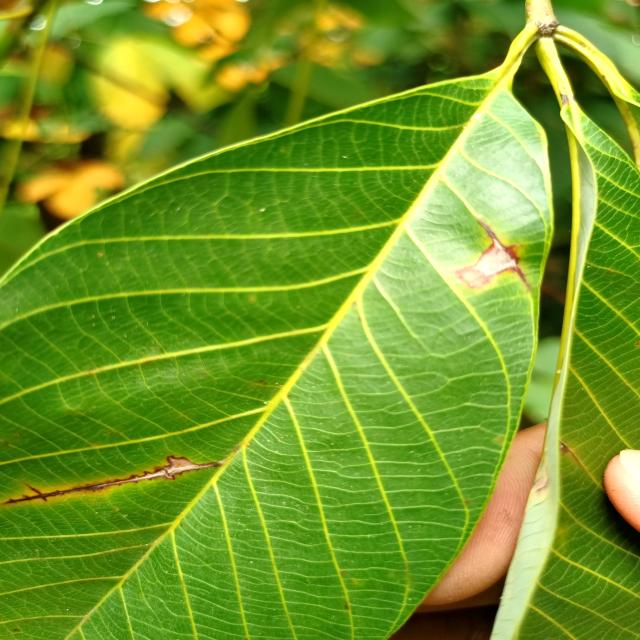Corynespora: (0, 454, 221, 504), (477, 218, 532, 290)
Leaf-Blight: (458, 241, 516, 288)
